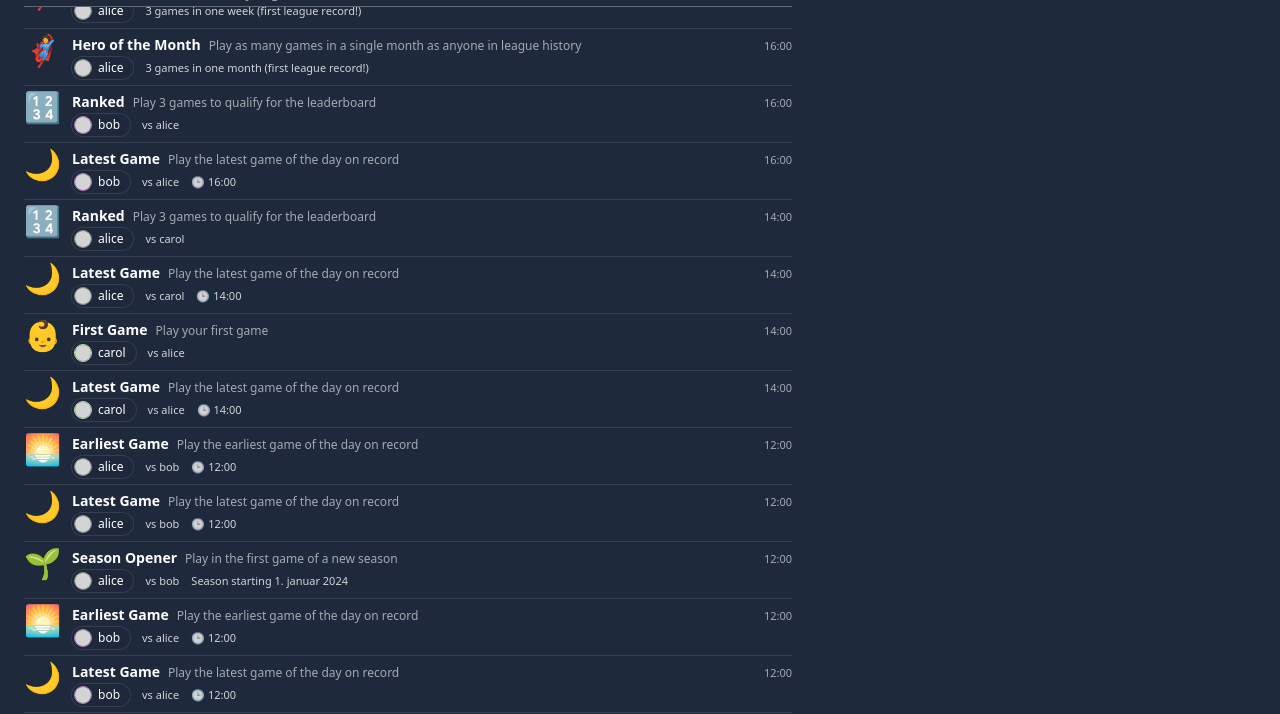
Test: navigation from the achievements page › opens the details of the achievement whose name you click
(page scrolled)
Click the link "First Game" at {"x": 110, "y": 330}, box [72, 320, 148, 340]
(page scrolled)
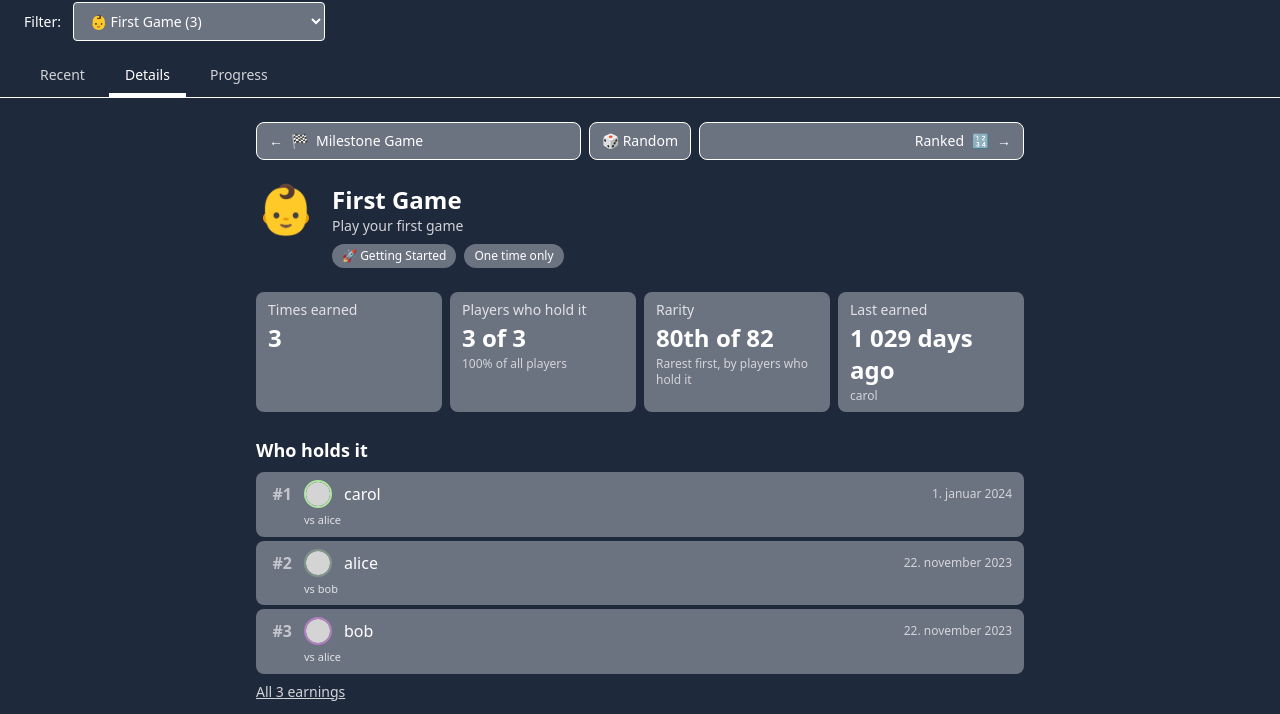
Expected: the heading "First Game" is shown, [332, 183, 462, 216]
Expected: the text "Times earned" is shown, [268, 300, 357, 319]
